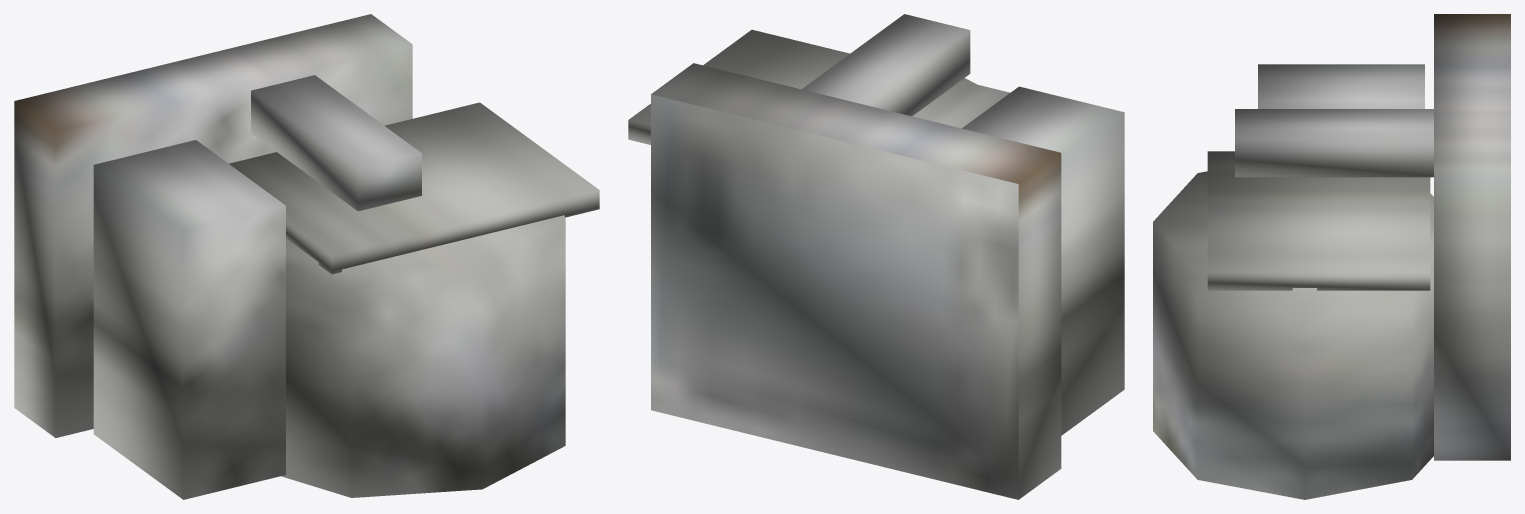
Rendered from wrist_yaw.dae.
3 views of the same model, side by side, from view 1: azimuth 30°, elevation 25°; view 2: azimuth 150°, elevation 25°; view 3: azimuth 270°, elevation 25° (orthographic). The views are drawn at different scales.
Visible parts, largest first — view 1: 29 DEXTRE.014; view 2: 29 DEXTRE.014; view 3: 29 DEXTRE.014.
Boxes of the visible parts, bbox=[...] form: 29 DEXTRE.014: bbox=[14, 14, 599, 499]; 29 DEXTRE.014: bbox=[628, 14, 1124, 499]; 29 DEXTRE.014: bbox=[1153, 14, 1510, 499].
Bounding box in the file's own units: 0.4575 × 0.357 × 0.3219.
1 material, 1 textured.
